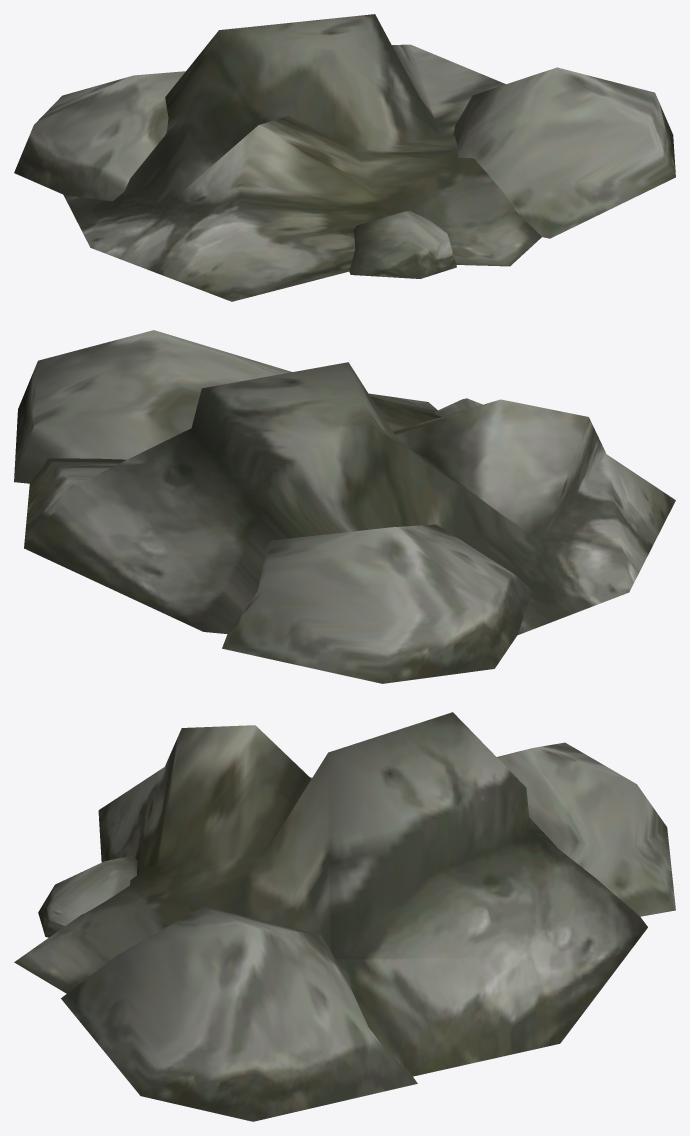
Rendered from karazahnrockrubble02.obj.
The picture shows the model from 3 angles, top to bottom: view 1: azimuth 30°, elevation 25°; view 2: azimuth 150°, elevation 25°; view 3: azimuth 270°, elevation 25°; orthographic projection. The views are drawn at different scales.
Visible parts, largest first — view 1: karazahnrockrubble02; view 2: karazahnrockrubble02; view 3: karazahnrockrubble02.
Part boxes in pixels (bbox=[...]): karazahnrockrubble02: bbox=[14, 14, 675, 301]; karazahnrockrubble02: bbox=[14, 330, 675, 683]; karazahnrockrubble02: bbox=[14, 712, 675, 1121].
Bounding box in the file's own units: 2.64 × 0.6406 × 2.15.
Materials: 1 (1 with a texture image).
